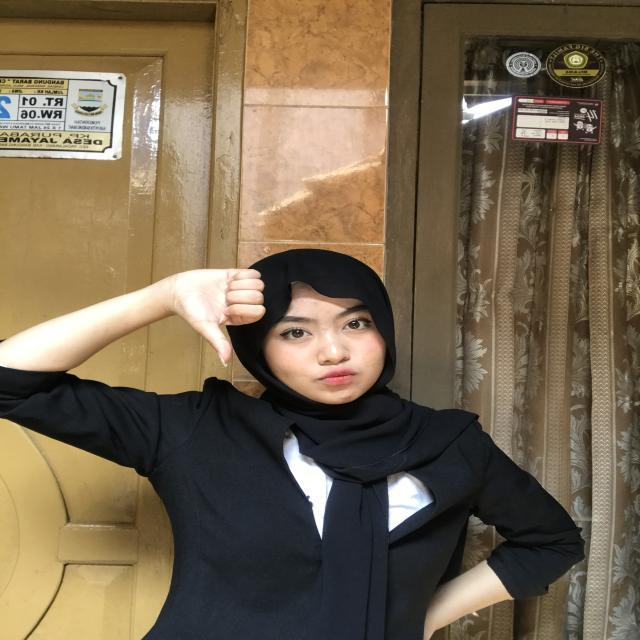sedih: (152, 255, 278, 377)
